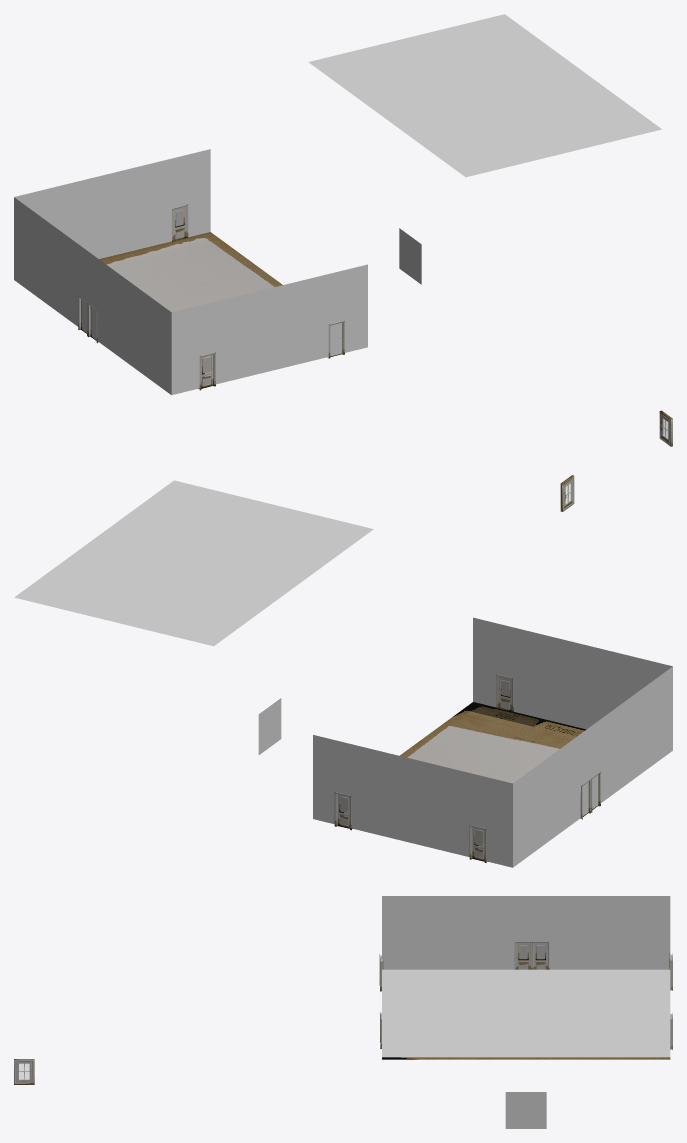
File: room_MainHall.fbx
The picture shows the model from 3 angles, top to bottom: view 1: azimuth 30°, elevation 25°; view 2: azimuth 150°, elevation 25°; view 3: azimuth 270°, elevation 25°; orthographic projection. The views are drawn at different scales.
Visible parts, largest first — view 1: Cube.001, Cube.003, Cube.002; view 2: Cube.001, Cube.003, Cube.002, PortaMadeira.002, PortaMadeira, PortaMadeira.001; view 3: Cube.001, Cube.002, Cube.003, Janela, PortaMadeira.004, PortaMadeira.005.
Part boxes in pixels (x1=…): Cube.001: x1=14, y1=14, x2=661, y2=395; Cube.003: x1=99, y1=232, x2=282, y2=312; Cube.002: x1=399, y1=228, x2=421, y2=284; Cube.001: x1=14, y1=480, x2=672, y2=867; Cube.003: x1=399, y1=702, x2=586, y2=783; Cube.002: x1=258, y1=698, x2=281, y2=755; PortaMadeira.002: x1=496, y1=674, x2=513, y2=712; PortaMadeira: x1=334, y1=791, x2=352, y2=830; PortaMadeira.001: x1=469, y1=824, x2=486, y2=862; Cube.001: x1=382, y1=896, x2=670, y2=1057; Cube.002: x1=505, y1=1092, x2=546, y2=1128; Cube.003: x1=382, y1=1057, x2=670, y2=1059; Janela: x1=14, y1=1059, x2=34, y2=1084; PortaMadeira.004: x1=532, y1=941, x2=549, y2=969; PortaMadeira.005: x1=514, y1=941, x2=531, y2=969.
Size of the model in its own units: 14403 by 4543 by 18225.
